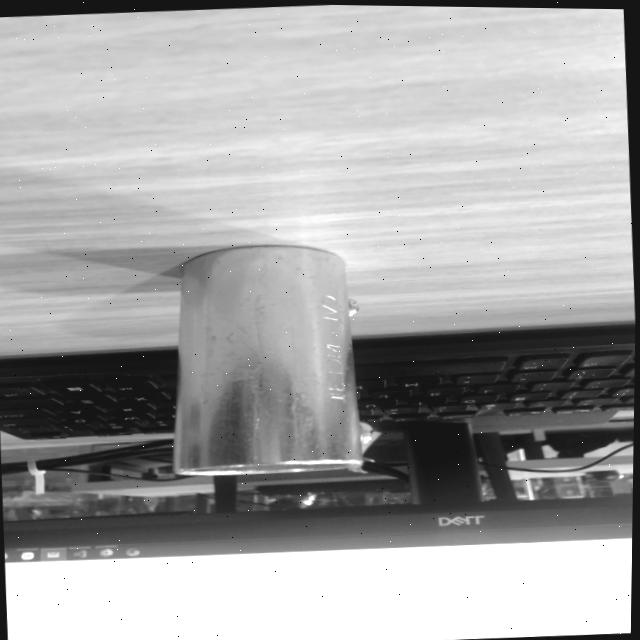Co_Lon: (171, 242, 374, 476)
